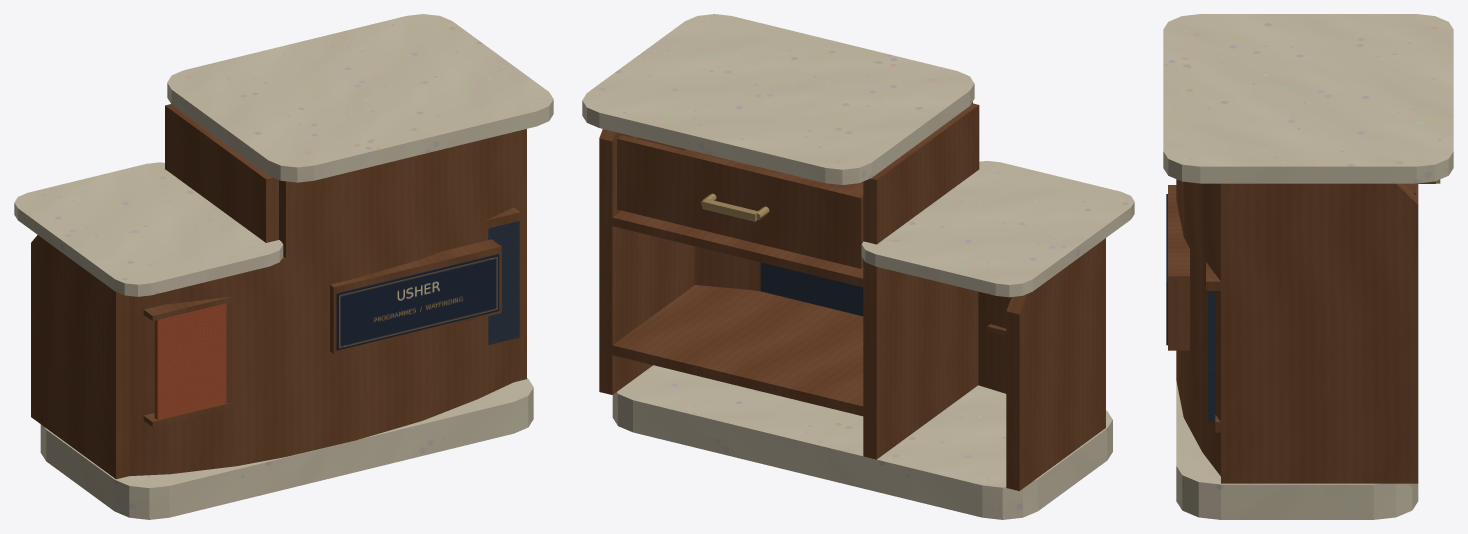
The model's file is AST-CUL-002.glb.
The picture shows the model from 3 angles, left to right: view 1: azimuth 30°, elevation 25°; view 2: azimuth 150°, elevation 25°; view 3: azimuth 270°, elevation 25°; orthographic projection. The views are drawn at different scales.
Parts seen in each view (by area): view 1: AST-CUL-002__AST-CUL-002__warm_walnut, AST-CUL-002__AST-CUL-002__warm_stone, AST-CUL-002__AST-CUL-002__usher_original, AST-CUL-002__AST-CUL-002__auditorium_amber_velvet, AST-CUL-002__AST-CUL-002__auditorium_navy_fibre; view 2: AST-CUL-002__AST-CUL-002__warm_stone, AST-CUL-002__AST-CUL-002__warm_walnut, AST-CUL-002__USHER_DRAWER__warm_walnut, AST-CUL-002__AST-CUL-002__auditorium_navy_fibre, AST-CUL-002__USHER_DRAWER__champagne_metal; view 3: AST-CUL-002__AST-CUL-002__warm_walnut, AST-CUL-002__AST-CUL-002__warm_stone, AST-CUL-002__AST-CUL-002__auditorium_navy_fibre.
Boxes of the visible parts, <box> form: AST-CUL-002__AST-CUL-002__warm_walnut: <box>31,104,526,479</box>; AST-CUL-002__AST-CUL-002__warm_stone: <box>14,14,553,519</box>; AST-CUL-002__AST-CUL-002__usher_original: <box>336,254,499,350</box>; AST-CUL-002__AST-CUL-002__auditorium_amber_velvet: <box>154,303,226,419</box>; AST-CUL-002__AST-CUL-002__auditorium_navy_fibre: <box>488,221,519,344</box>; AST-CUL-002__AST-CUL-002__warm_stone: <box>582,14,1134,519</box>; AST-CUL-002__AST-CUL-002__warm_walnut: <box>599,101,1105,490</box>; AST-CUL-002__USHER_DRAWER__warm_walnut: <box>617,135,863,268</box>; AST-CUL-002__AST-CUL-002__auditorium_navy_fibre: <box>760,262,863,316</box>; AST-CUL-002__USHER_DRAWER__champagne_metal: <box>701,193,769,221</box>; AST-CUL-002__AST-CUL-002__warm_walnut: <box>1168,179,1418,483</box>; AST-CUL-002__AST-CUL-002__warm_stone: <box>1163,14,1453,519</box>; AST-CUL-002__AST-CUL-002__auditorium_navy_fibre: <box>1208,291,1215,421</box>.
Bounding box in the file's own units: 1.51 × 1.07 × 0.78.
6 materials, 6 textured.
